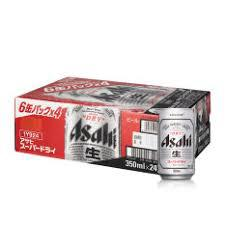beer: (10, 75, 212, 182)
